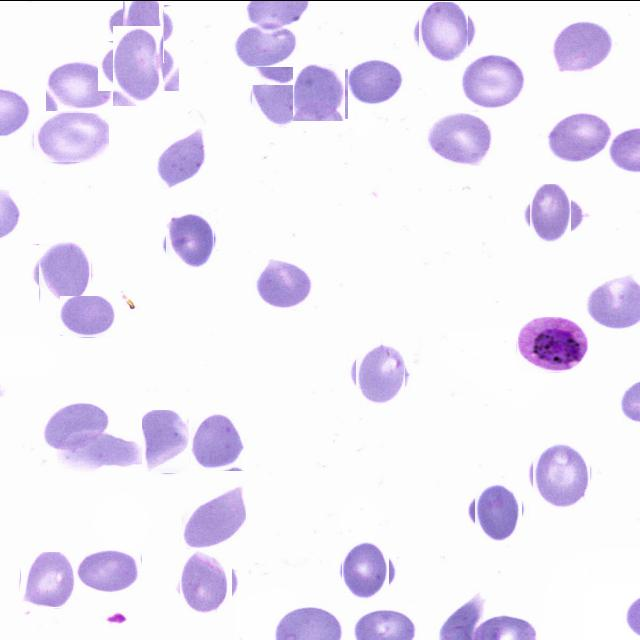difficult: (517, 316, 588, 372)
red blood cell: (106, 32, 171, 98), (530, 441, 594, 505), (182, 486, 246, 548), (33, 112, 109, 162), (462, 52, 528, 108), (426, 111, 492, 166), (34, 240, 94, 300), (414, 0, 474, 60), (550, 20, 615, 74), (177, 551, 236, 610), (46, 60, 115, 110), (546, 109, 611, 161), (351, 344, 409, 402), (250, 66, 308, 123), (154, 128, 209, 188), (188, 412, 245, 468), (21, 552, 78, 608), (252, 258, 313, 310), (114, 0, 171, 54), (141, 409, 189, 473), (76, 549, 142, 595), (292, 64, 346, 120), (163, 211, 217, 266), (338, 544, 393, 598), (44, 404, 109, 449), (471, 483, 525, 537), (234, 23, 298, 68), (523, 189, 577, 241), (345, 57, 404, 104), (59, 294, 115, 336)
